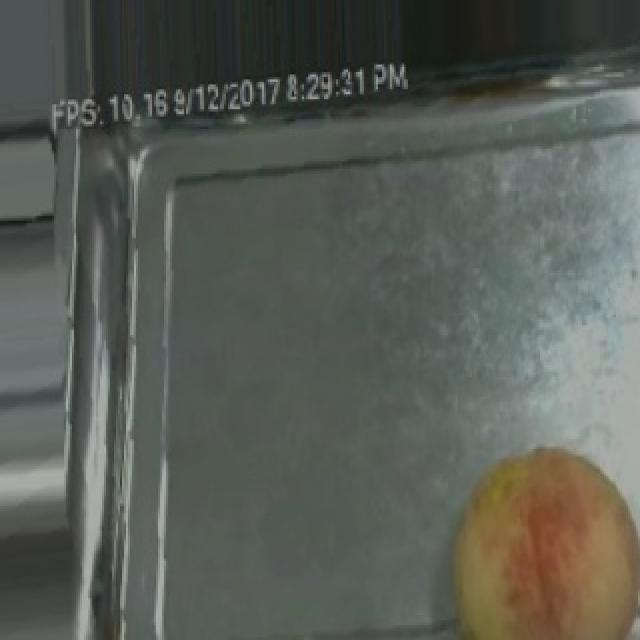Fruit: (436, 434, 640, 638)
